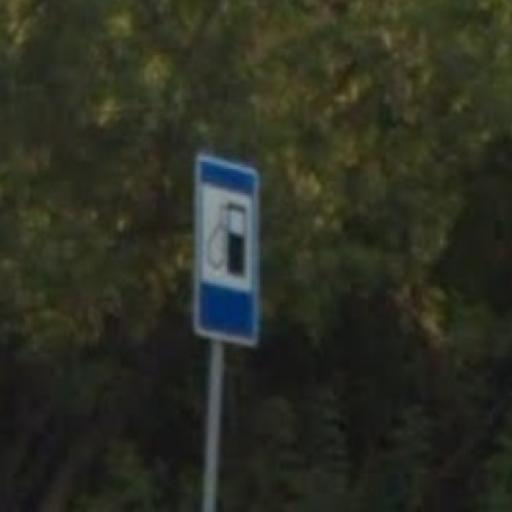traffic_sign: (194, 151, 263, 347)
